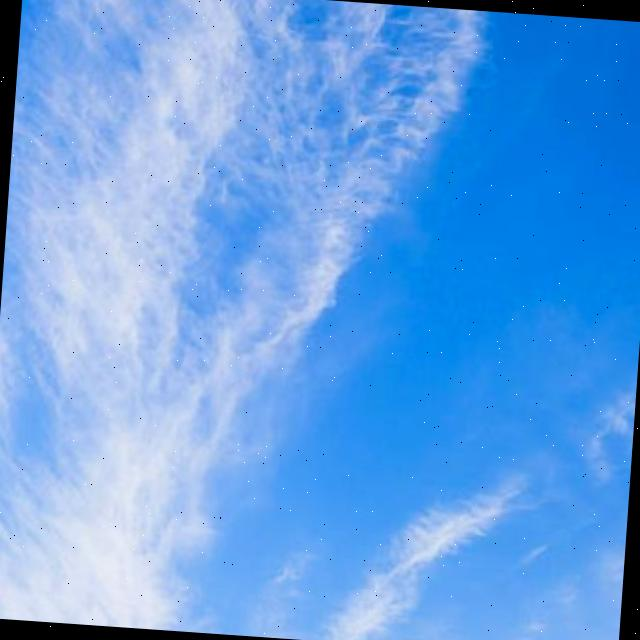As: (1, 1, 456, 640)
